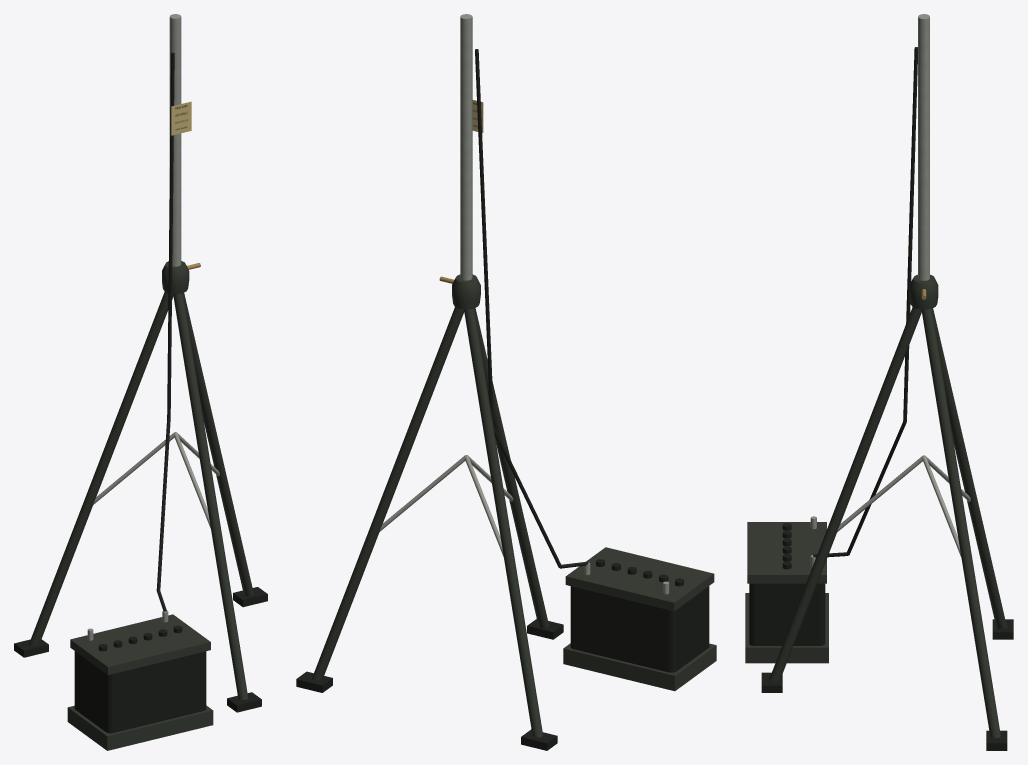
Rendered from SM_FieldKit_LampStand.glb.
3 renders of one model, left to right at view 1: azimuth 30°, elevation 25°; view 2: azimuth 150°, elevation 25°; view 3: azimuth 270°, elevation 25°, orthographic. The views are drawn at different scales.
Visible parts, largest first — view 1: SM_FieldKit_LampStand; view 2: SM_FieldKit_LampStand; view 3: SM_FieldKit_LampStand.
Boxes of the visible parts, box(x1,y1,x2,y2) form: SM_FieldKit_LampStand: box(14, 14, 267, 750); SM_FieldKit_LampStand: box(296, 14, 716, 750); SM_FieldKit_LampStand: box(745, 14, 1013, 750).
Size of the model in its own units: 0.881 by 1.95 by 0.7056.
Materials: 5 (2 with a texture image).
